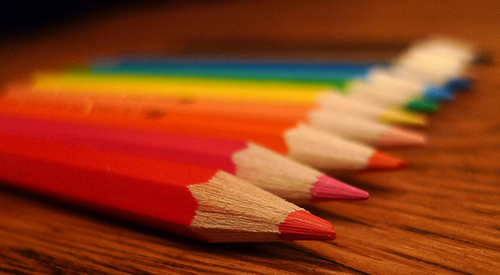pen_tip: (179, 166, 339, 253)
